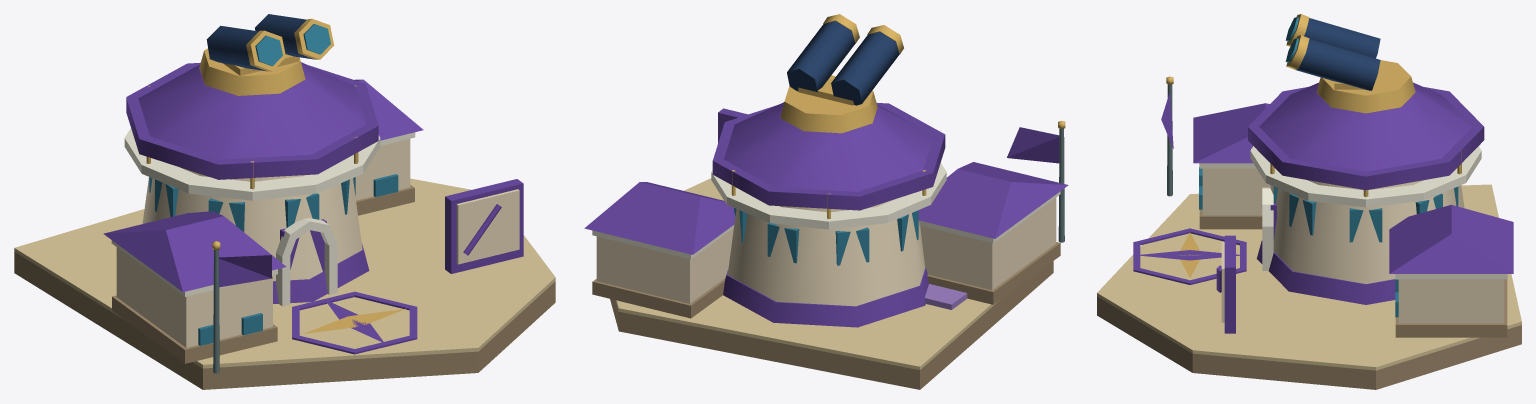
Rendered from scout-center-lv3.glb.
3 renders of one model, left to right at view 1: azimuth 30°, elevation 25°; view 2: azimuth 150°, elevation 25°; view 3: azimuth 270°, elevation 25°, orthographic. The views are drawn at different scales.
Visible parts, largest first — view 1: foundation_sand, faceted_roof_violet, foundation_stoneDark, octagonal_office_cream, archive_wing_cream, observation_eave_violet, archive_wing_roof_violet, observation_balcony_white, map_board_cream, archive_wing_stoneDark, roof_binoculars_naval, optic_pedestal_gold (+17 smaller); view 2: octagonal_office_cream, faceted_roof_violet, foundation_sand, foundation_stoneDark, analysis_wing_roof_violet, archive_wing_roof_violet, archive_wing_cream, analysis_wing_cream, observation_eave_violet, roof_binoculars_naval, office_plinth_violet, observation_balcony_white (+11 smaller); view 3: foundation_sand, faceted_roof_violet, octagonal_office_cream, foundation_stoneDark, analysis_wing_roof_violet, observation_eave_violet, analysis_wing_cream, observation_balcony_white, roof_binoculars_naval, archive_wing_roof_violet, archive_wing_cream, optic_pedestal_gold (+11 smaller).
Boxes of the visible parts, <box> form: foundation_sand: <box>14,178,555,368</box>; faceted_roof_violet: <box>138,62,366,159</box>; foundation_stoneDark: <box>14,252,555,389</box>; octagonal_office_cream: <box>142,168,362,281</box>; archive_wing_cream: <box>116,247,272,347</box>; observation_eave_violet: <box>126,62,378,179</box>; archive_wing_roof_violet: <box>103,211,286,292</box>; observation_balcony_white: <box>124,128,380,200</box>; map_board_cream: <box>456,189,519,264</box>; archive_wing_stoneDark: <box>112,295,277,363</box>; roof_binoculars_naval: <box>206,14,314,71</box>; optic_pedestal_gold: <box>199,48,305,95</box>; octagonal_office_cream: <box>727,199,925,306</box>; faceted_roof_violet: <box>724,102,933,191</box>; foundation_sand: <box>616,178,999,369</box>; foundation_stoneDark: <box>610,261,1053,389</box>; analysis_wing_roof_violet: <box>584,182,735,254</box>; archive_wing_roof_violet: <box>918,162,1068,238</box>; archive_wing_cream: <box>920,198,1056,289</box>; analysis_wing_cream: <box>596,228,733,303</box>; observation_eave_violet: <box>712,103,945,210</box>; roof_binoculars_naval: <box>787,21,899,105</box>; office_plinth_violet: <box>723,268,928,327</box>; observation_balcony_white: <box>711,163,946,229</box>; foundation_sand: <box>1097,184,1521,370</box>; faceted_roof_violet: <box>1259,82,1472,171</box>; octagonal_office_cream: <box>1270,180,1464,283</box>; foundation_stoneDark: <box>1097,296,1521,389</box>; analysis_wing_roof_violet: <box>1389,204,1513,273</box>; observation_eave_violet: <box>1248,87,1484,190</box>; analysis_wing_cream: <box>1398,279,1504,323</box>; observation_balcony_white: <box>1250,146,1481,207</box>; roof_binoculars_naval: <box>1295,18,1380,90</box>; archive_wing_roof_violet: <box>1193,103,1269,163</box>; archive_wing_cream: <box>1202,168,1270,215</box>; optic_pedestal_gold: <box>1316,60,1415,113</box>.
Bounding box in the file's own units: 1 × 0.6559 × 0.9826.
